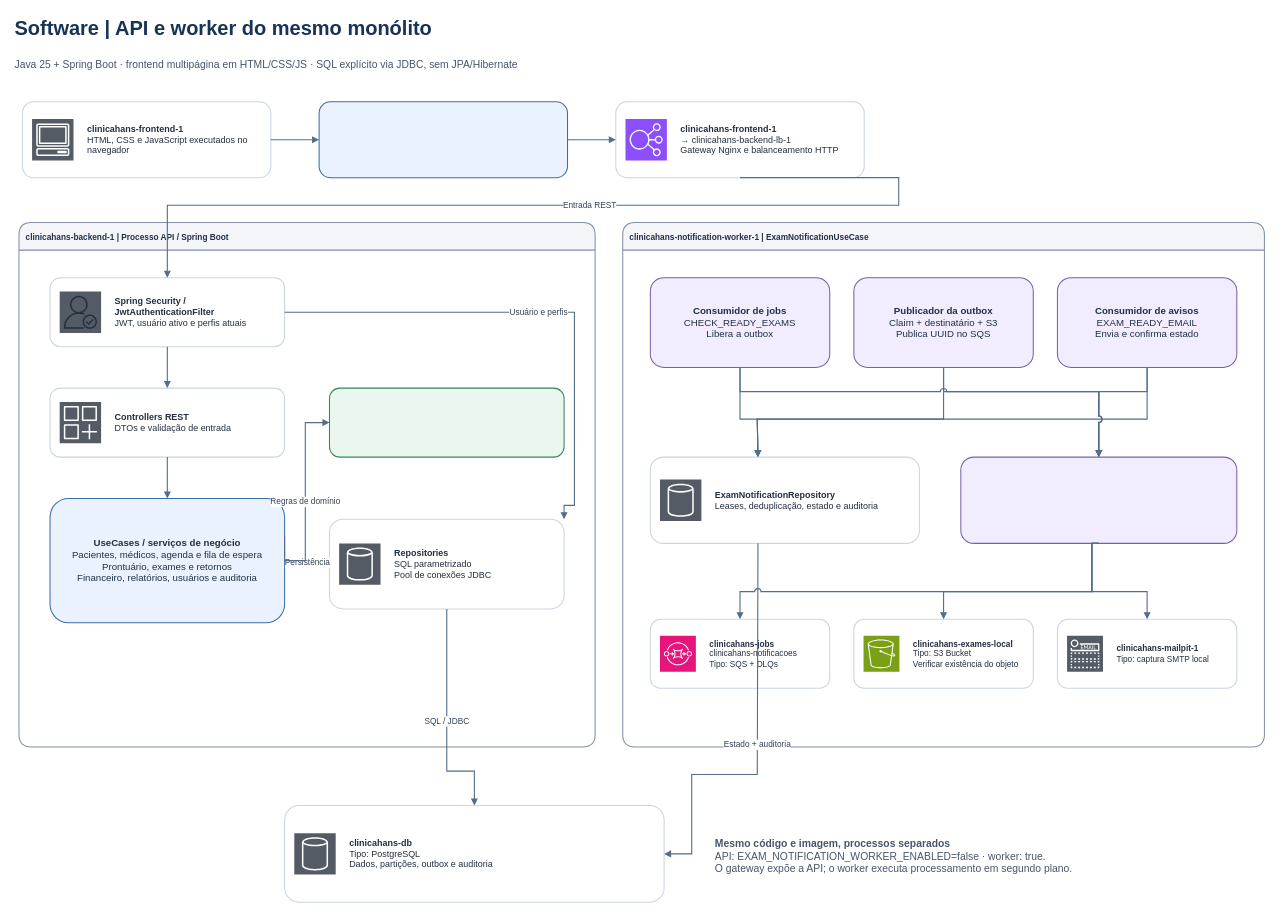
Image size: 1286x917. Some labels were removed from this diagram. Each missing label, with the centre of its shape:
"ExamNotificationGateway AWS SDK: SQS + S3 JavaMailSender: SMTP" belongs at pixel 1098 500.
"frontend/services/api.js HTTP centralizado + token Bearer" belongs at pixel 443 139.
"Model / domínios Entidades, estados e objetos de valor" belongs at pixel 446 422.
